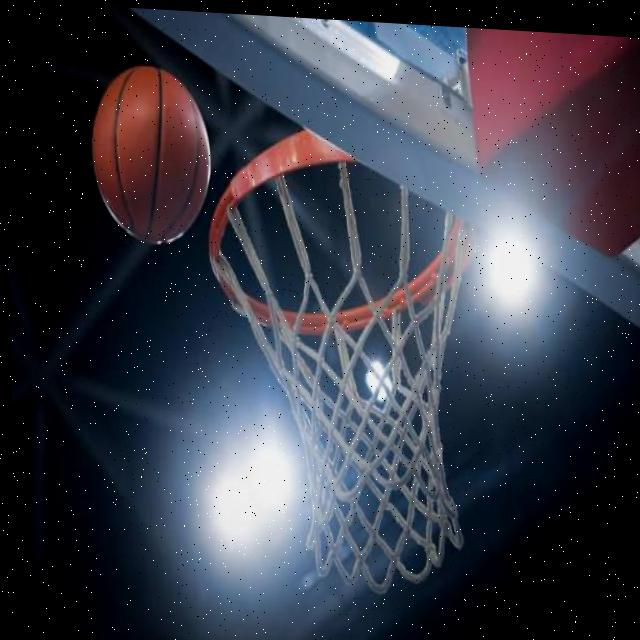Basketball: (91, 63, 214, 246)
hoop: (207, 123, 486, 602)
